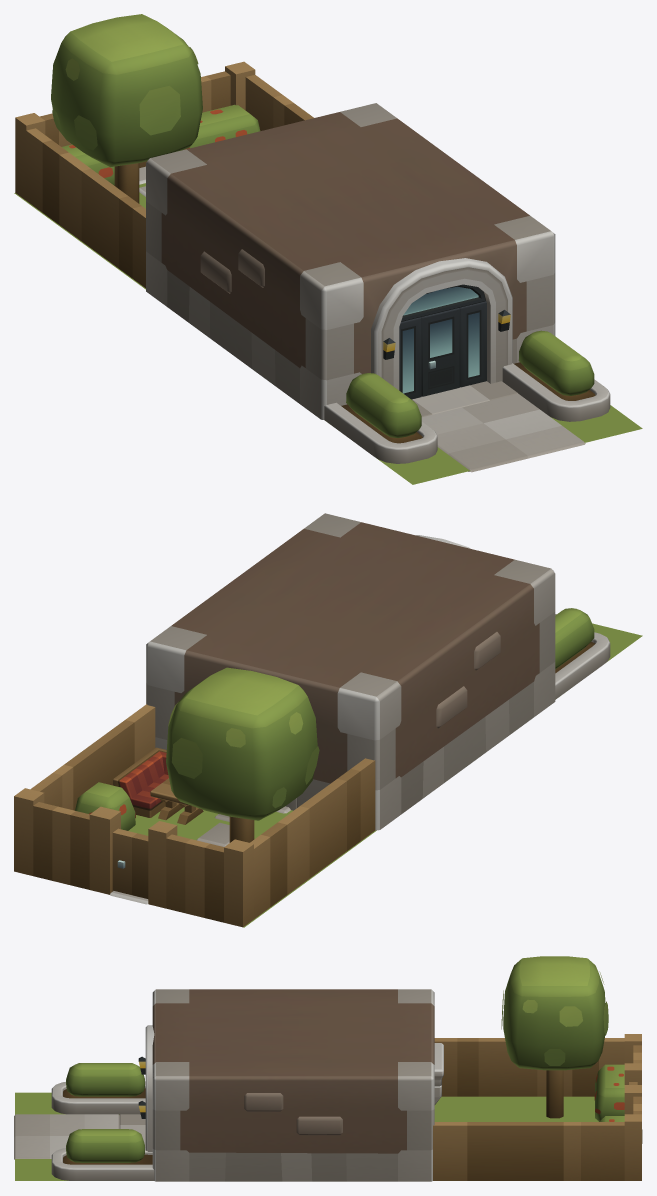
File: appartment_type3_x3_ground_beige.fbx
The picture shows the model from 3 angles, top to bottom: view 1: azimuth 30°, elevation 25°; view 2: azimuth 150°, elevation 25°; view 3: azimuth 270°, elevation 25°; orthographic projection. The views are drawn at different scales.
Parts seen in each view (by area): view 1: appartment_type3_x3_ground_beige, door_front_appartment_type3; view 2: appartment_type3_x3_ground_beige, door_garden_appartment_type3; view 3: appartment_type3_x3_ground_beige.
Part boxes in pixels (<box>): appartment_type3_x3_ground_beige: <box>14,14,642,484</box>; door_front_appartment_type3: <box>421,308,459,396</box>; appartment_type3_x3_ground_beige: <box>14,513,642,927</box>; door_garden_appartment_type3: <box>112,828,148,898</box>; appartment_type3_x3_ground_beige: <box>14,956,642,1181</box>.
Size of the model in its own units: 628 by 468 by 1806.
